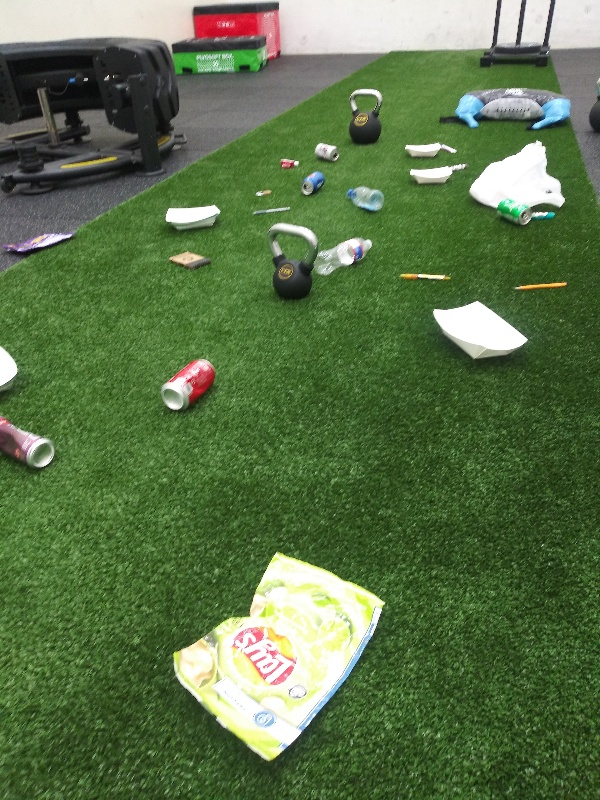bag: (163, 549, 391, 762), (2, 227, 80, 257)
bottle: (311, 233, 381, 280), (340, 183, 388, 214)
can: (157, 356, 219, 415), (1, 411, 57, 473), (491, 196, 536, 227), (296, 168, 325, 201), (310, 140, 343, 167)
plate: (426, 300, 534, 365), (162, 200, 227, 230), (404, 164, 458, 190), (1, 343, 22, 398), (398, 140, 444, 159)
